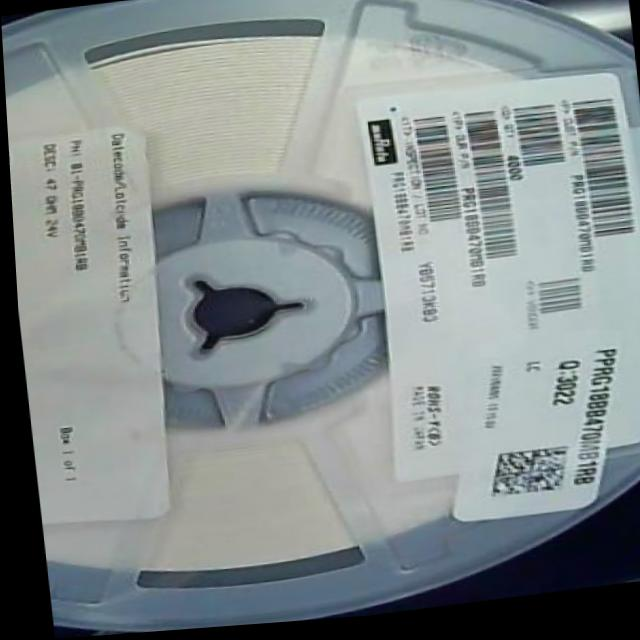datamatrix: (474, 451, 571, 511)
